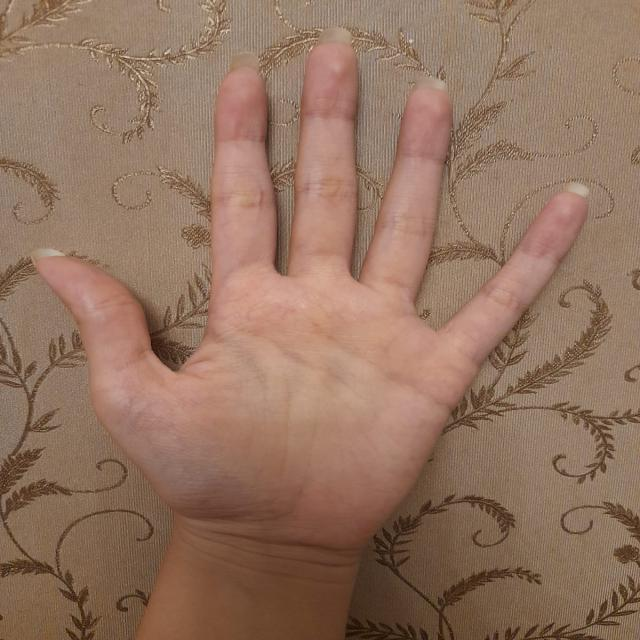Open Hand: (36, 44, 587, 549)
